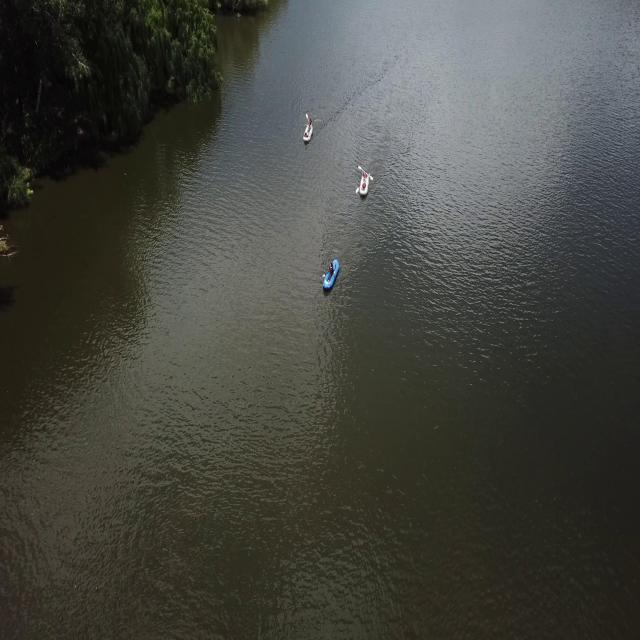kayak: (321, 256, 344, 294), (357, 164, 373, 203), (301, 116, 316, 148)
